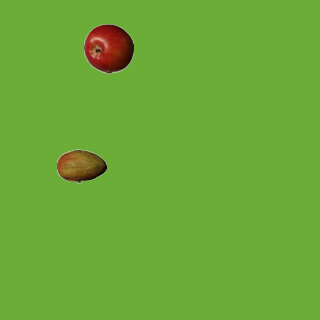Apple Braeburn: (83, 23, 133, 73)
Papaya: (56, 141, 106, 191)
